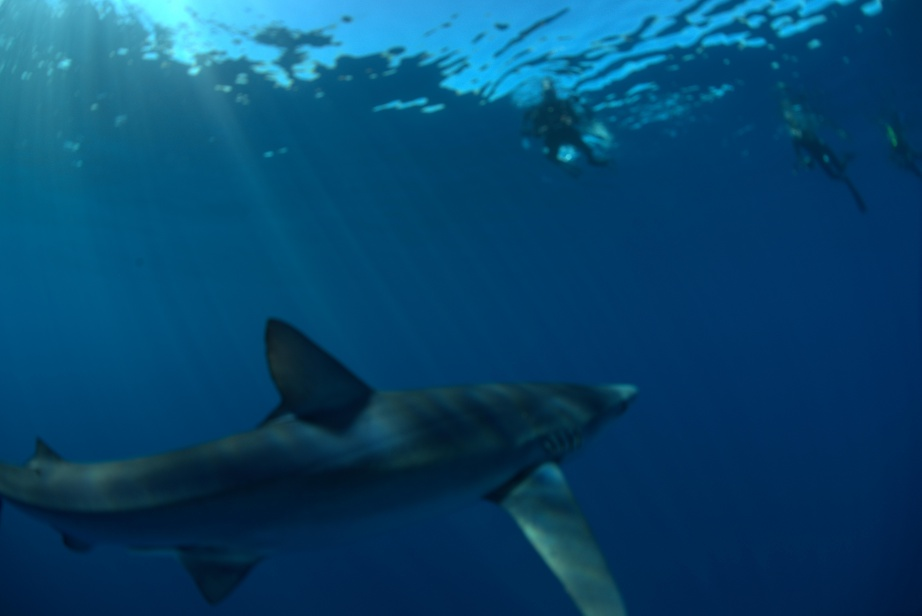Azul: (14, 306, 799, 616)
